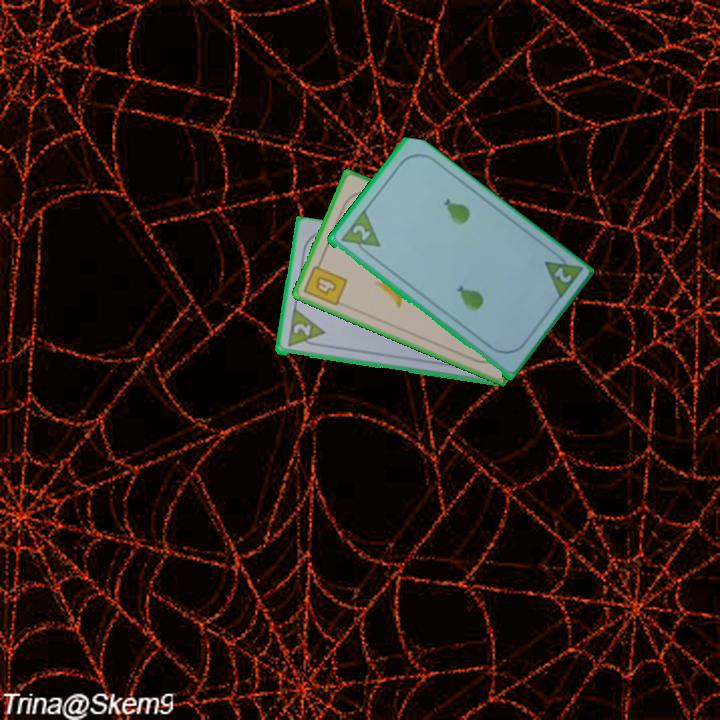2p: (540, 247, 585, 303), (348, 221, 373, 244), (289, 320, 314, 340)
4b: (300, 256, 350, 309)
